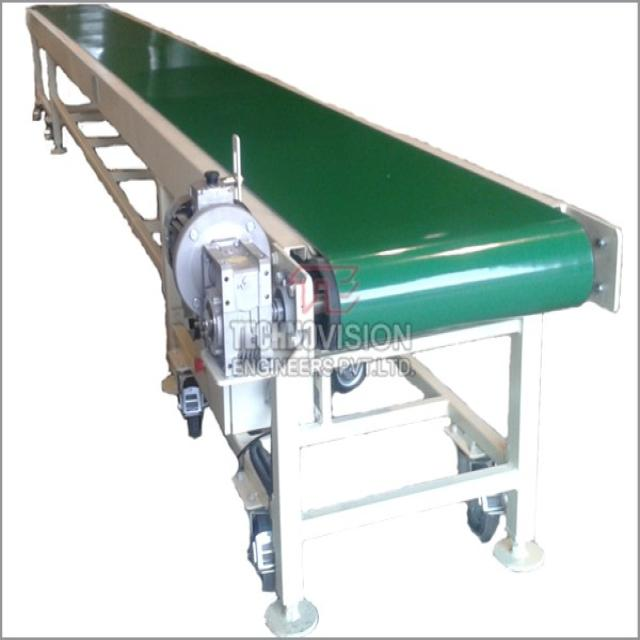conveyor: (25, 2, 636, 410)
